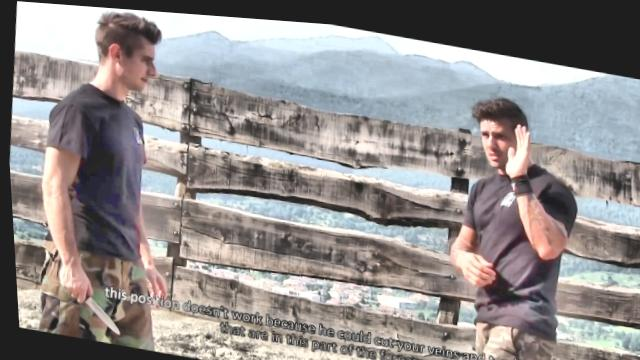knife: (45, 267, 124, 338)
